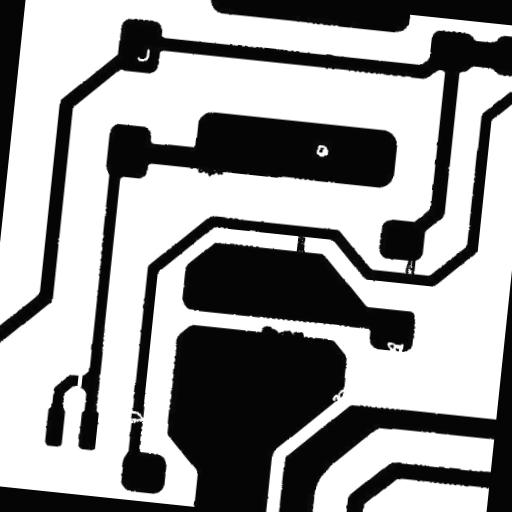mousebite: (376, 334, 412, 366), (324, 380, 354, 410)
open: (117, 402, 154, 432), (68, 364, 90, 398)
pin-hole: (129, 39, 158, 70), (308, 136, 337, 166)
short: (287, 218, 316, 268), (396, 242, 424, 284)
spur: (252, 317, 312, 349), (189, 154, 232, 186)
